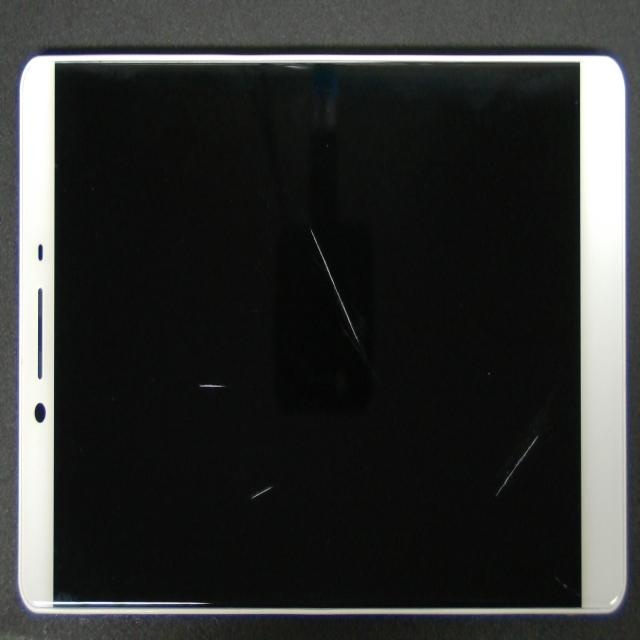scratch: (296, 165, 640, 640), (106, 239, 383, 640), (146, 188, 343, 559), (223, 224, 523, 436)
